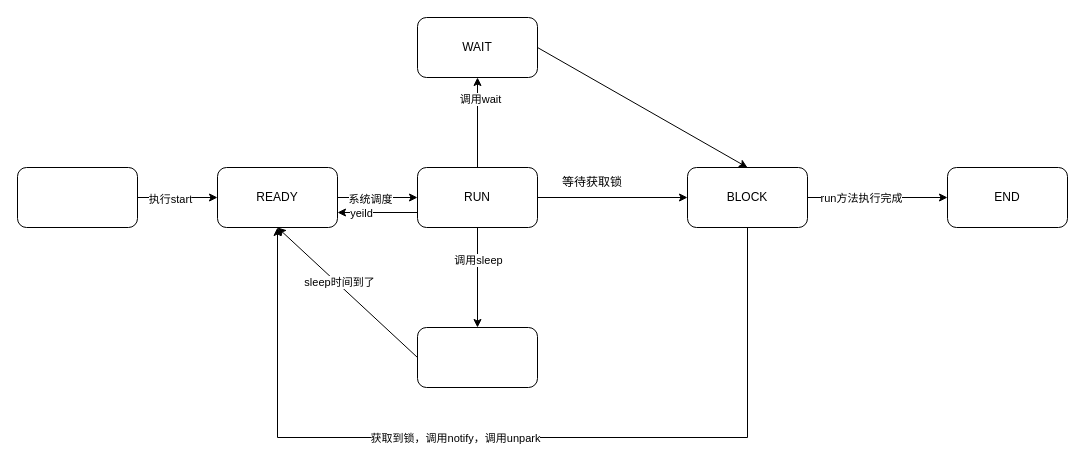
This 1085x463 diagram has some shape labels left out. The centre of each missing label's shape, as x and y in pixels:
SLEEP: the point at 477,357
START: the point at 77,197
